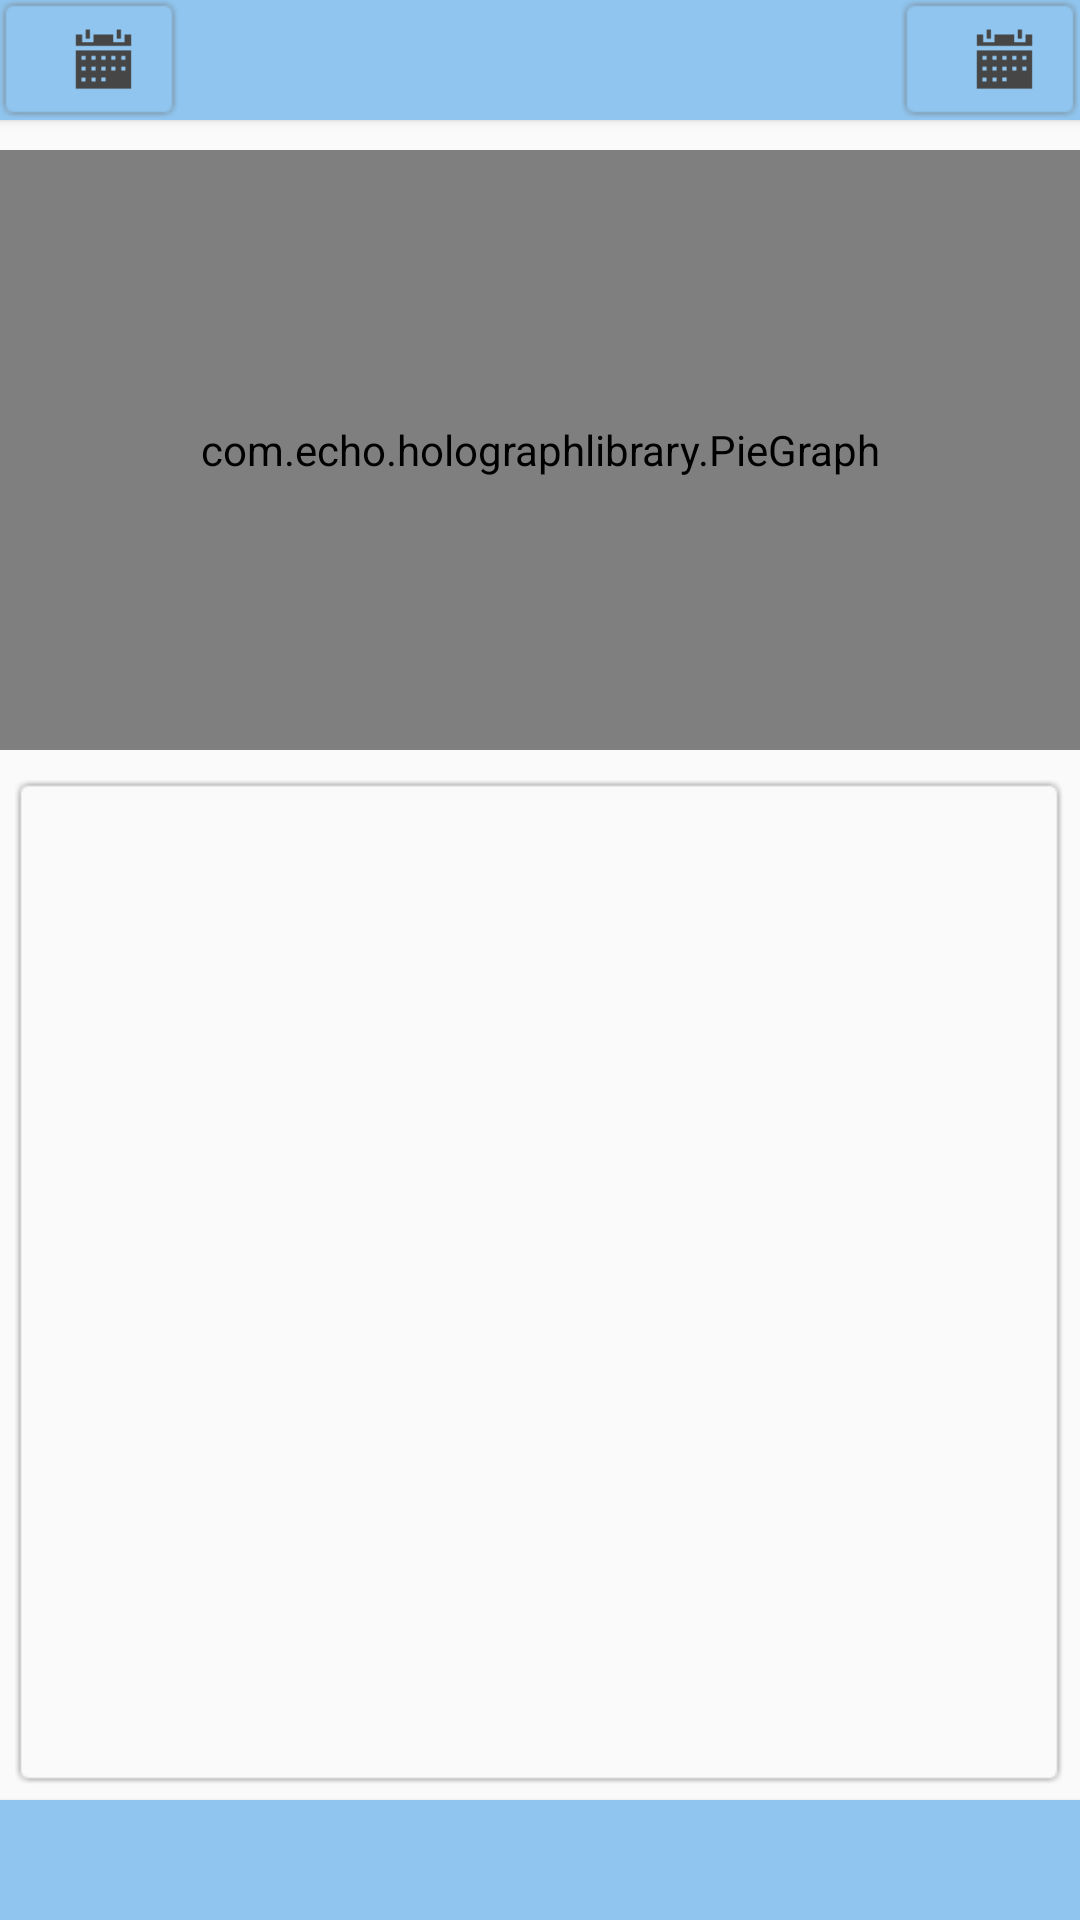

Icon click points for this 1080 × 1920 phone screenshot, format (x=x, y=y):
calendar: (x=103, y=59), (x=1004, y=59)
